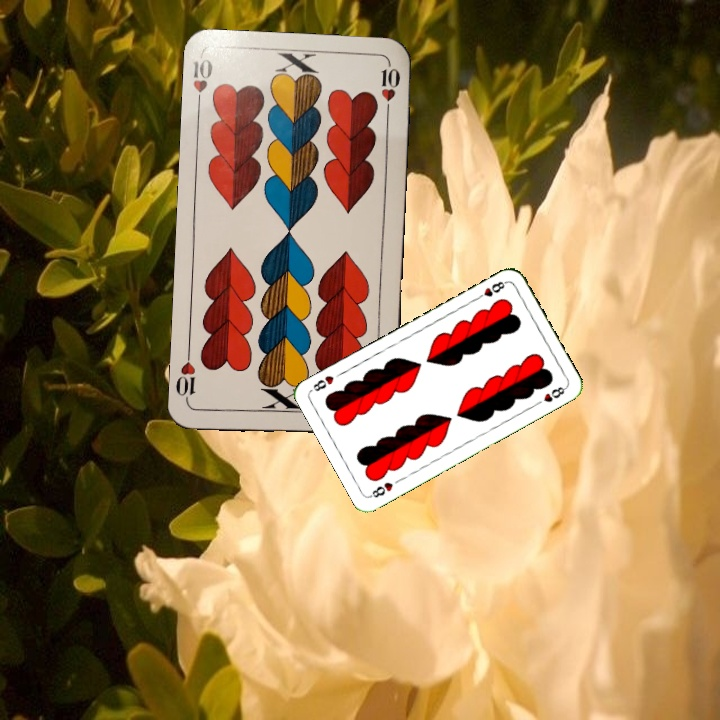H10: (189, 54, 216, 112)
H8: (472, 277, 509, 303), (366, 478, 396, 500)
